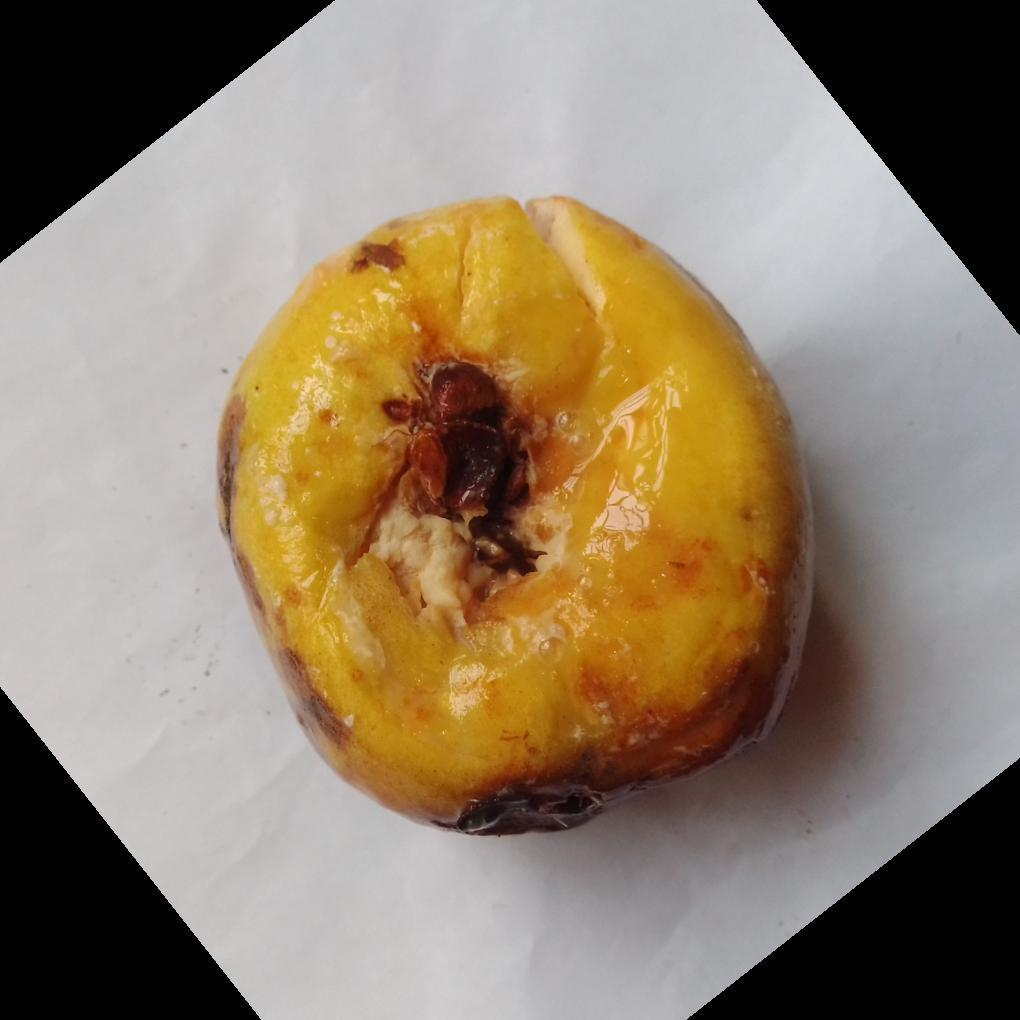FreshOrange: (217, 194, 815, 841)
